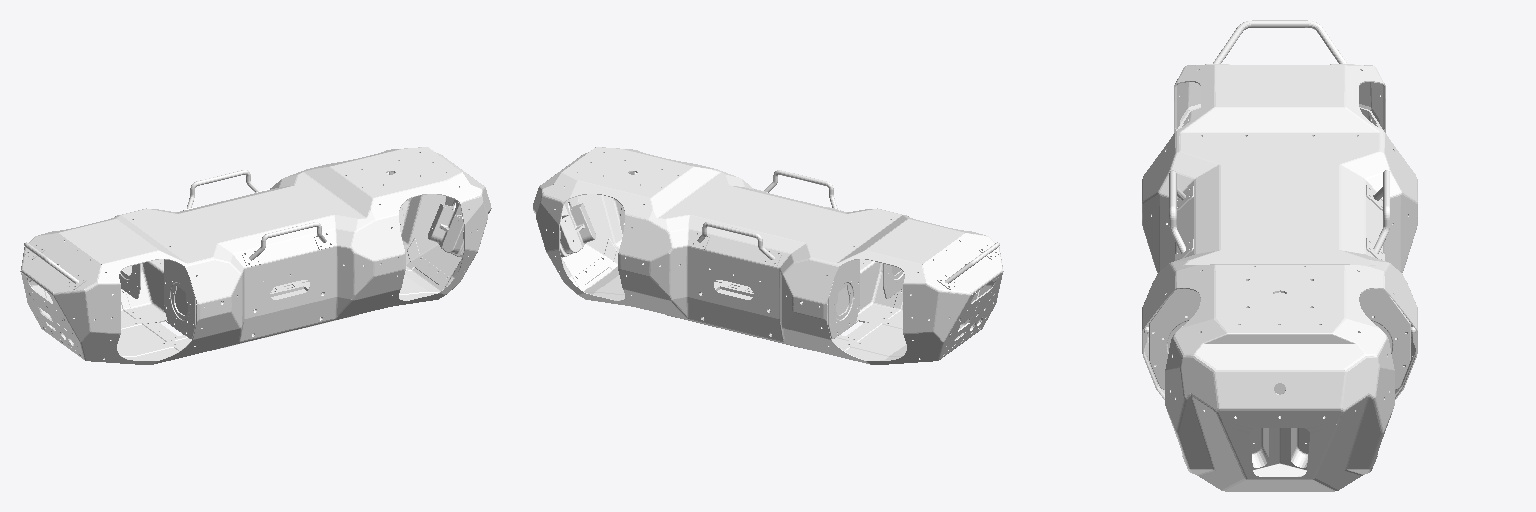
robot.urdf — PAI-urdf:
<?xml version="1.0" encoding="utf-8"?>
<!-- This URDF was automatically created by SolidWorks to URDF Exporter! Originally created by [author] ([email redacted]) 
     Commit Version: 1.6.0-4-g7f85cfe  Build Version: 1.6.7995.38578
     For more information, please see http://wiki.ros.org/sw_urdf_exporter -->
<robot
  name="PAI-urdf">
  <link
    name="base_link">
    <inertial>
      <origin
        xyz="0.069429 6.1599E-18 0.093307"
        rpy="0 0 0" />
      <mass
        value="1.5" />
      <inertia
        ixx="0.0028787"
        ixy="-6.2028E-19"
        ixz="0.0011496"
        iyy="0.0047606"
        iyz="5.6278E-19"
        izz="0.0043029" />
    </inertial>
    <visual>
      <origin
        xyz="0 0 0"
        rpy="0 0 0" />
      <geometry>
        <mesh
          filename="package://meshes/base_link.STL" />
      </geometry>
      <material
        name="">
        <color
          rgba="1 1 1 1" />
      </material>
    </visual>
    <collision>
      <origin
        xyz="0 0 0"
        rpy="0 0 0" />
      <geometry>
        <mesh
          filename="package://meshes/base_link.STL" />
      </geometry>
    </collision>
  </link>
  <link
    name="left-hip-abad">
    <inertial>
      <origin
        xyz="0.041409 0 0.055119"
        rpy="0 0 0" />
      <mass
        value="0.35" />
      <inertia
        ixx="3.6841E-05"
        ixy="-2.584E-22"
        ixz="-6.2162E-07"
        iyy="3.8839E-05"
        iyz="-1.9482E-21"
        izz="3.6277E-05" />
    </inertial>
    <visual>
      <origin
        xyz="0 0 0"
        rpy="0 0 0" />
      <geometry>
        <mesh
          filename="package://meshes/left-hip-abad.STL" />
      </geometry>
      <material
        name="">
        <color
          rgba="1 1 1 1" />
      </material>
    </visual>
    <collision>
      <origin
        xyz="0 0 0"
        rpy="0 0 0" />
      <geometry>
        <mesh
          filename="package://meshes/left-hip-abad.STL" />
      </geometry>
    </collision>
  </link>
  <joint
    name="abad-L"
    type="continuous">
    <origin
      xyz="0 0.075 0"
      rpy="0 0 0" />
    <parent
      link="base_link" />
    <child
      link="left-hip-abad" />
    <axis
      xyz="-1 0 0" />
  </joint>
  <link
    name="left-hip-yaw">
    <inertial>
      <origin
        xyz="-0.00049584 2.8866E-15 0.0032955"
        rpy="0 0 0" />
      <mass
        value="0.65" />
      <inertia
        ixx="6.7757E-05"
        ixy="7.9552E-21"
        ixz="-6.395E-07"
        iyy="6.8581E-05"
        iyz="9.1346E-21"
        izz="6.7914E-05" />
    </inertial>
    <visual>
      <origin
        xyz="0 0 0"
        rpy="0 0 0" />
      <geometry>
        <mesh
          filename="package://meshes/left-hip-yaw.STL" />
      </geometry>
      <material
        name="">
        <color
          rgba="1 1 1 1" />
      </material>
    </visual>
    <collision>
      <origin
        xyz="0 0 0"
        rpy="0 0 0" />
      <geometry>
        <mesh
          filename="package://meshes/left-hip-yaw.STL" />
      </geometry>
    </collision>
  </link>
  <joint
    name="Yaw-L"
    type="continuous">
    <origin
      xyz="0.049 0 -0.0005"
      rpy="0 0 0" />
    <parent
      link="left-hip-abad" />
    <child
      link="left-hip-yaw" />
    <axis
      xyz="0 0 1" />
  </joint>
  <link
    name="left-hip-pitch">
    <inertial>
      <origin
        xyz="6.5226E-16 2.3315E-15 -0.05727"
        rpy="0 0 0" />
      <mass
        value="0.2" />
      <inertia
        ixx="0.00012318"
        ixy="3.9623E-20"
        ixz="-2.6324E-20"
        iyy="0.00012926"
        iyz="7.2271E-23"
        izz="6.3186E-06" />
    </inertial>
    <visual>
      <origin
        xyz="0 0 0"
        rpy="0 0 0" />
      <geometry>
        <mesh
          filename="package://meshes/left-hip-pitch.STL" />
      </geometry>
      <material
        name="">
        <color
          rgba="1 1 1 1" />
      </material>
    </visual>
    <collision>
      <origin
        xyz="0 0 0"
        rpy="0 0 0" />
      <geometry>
        <mesh
          filename="package://meshes/left-hip-pitch.STL" />
      </geometry>
    </collision>
  </link>
  <joint
    name="Pitch-L"
    type="continuous">
    <origin
      xyz="0 0 0"
      rpy="0 0 0" />
    <parent
      link="left-hip-yaw" />
    <child
      link="left-hip-pitch" />
    <axis
      xyz="0 1 0" />
  </joint>
  <link
    name="left-knee">
    <inertial>
      <origin
        xyz="-0.0045962 0.012568 -0.063722"
        rpy="0 0 0" />
      <mass
        value="0.36" />
      <inertia
        ixx="0.00011945"
        ixy="6.4077E-08"
        ixz="3.3225E-07"
        iyy="0.00012253"
        iyz="1.2844E-07"
        izz="2.0036E-05" />
    </inertial>
    <visual>
      <origin
        xyz="0 0 0"
        rpy="0 0 0" />
      <geometry>
        <mesh
          filename="package://meshes/left-knee.STL" />
      </geometry>
      <material
        name="">
        <color
          rgba="1 1 1 1" />
      </material>
    </visual>
    <collision>
      <origin
        xyz="0 0 0"
        rpy="0 0 0" />
      <geometry>
        <mesh
          filename="package://meshes/left-knee.STL" />
      </geometry>
    </collision>
  </link>
  <joint
    name="Knee-L"
    type="continuous">
    <origin
      xyz="0 0 -0.15"
      rpy="0 0 0" />
    <parent
      link="left-hip-pitch" />
    <child
      link="left-knee" />
    <axis
      xyz="0 1 0" />
  </joint>
  <link
    name="left-ankle">
    <inertial>
      <origin
        xyz="0.010818 -1.9984E-08 -0.014672"
        rpy="0 0 0" />
      <mass
        value="0.09" />
      <inertia
        ixx="2.76E-06"
        ixy="3.1498E-11"
        ixz="1.0465E-06"
        iyy="2.7107E-05"
        iyz="3.7297E-13"
        izz="2.6942E-05" />
    </inertial>
    <visual>
      <origin
        xyz="0 0 0"
        rpy="0 0 0" />
      <geometry>
        <mesh
          filename="package://meshes/left-ankle.STL" />
      </geometry>
      <material
        name="">
        <color
          rgba="1 1 1 1" />
      </material>
    </visual>
    <collision>
      <origin
        xyz="0 0 0"
        rpy="0 0 0" />
      <geometry>
        <mesh
          filename="package://meshes/left-ankle.STL" />
      </geometry>
    </collision>
  </link>
  <joint
    name="Ankle-L"
    type="continuous">
    <origin
      xyz="0 0 -0.16"
      rpy="0 0 0" />
    <parent
      link="left-knee" />
    <child
      link="left-ankle" />
    <axis
      xyz="0 -1 0" />
  </joint>
  <link
    name="right-hip-abad">
    <inertial>
      <origin
        xyz="0.041409 -2.7756E-17 0.055119"
        rpy="0 0 0" />
      <mass
        value="0.35" />
      <inertia
        ixx="3.6841E-05"
        ixy="2.4386E-22"
        ixz="-6.2162E-07"
        iyy="3.8839E-05"
        iyz="-2.348E-21"
        izz="3.6277E-05" />
    </inertial>
    <visual>
      <origin
        xyz="0 0 0"
        rpy="0 0 0" />
      <geometry>
        <mesh
          filename="package://meshes/right-hip-abad.STL" />
      </geometry>
      <material
        name="">
        <color
          rgba="1 1 1 1" />
      </material>
    </visual>
    <collision>
      <origin
        xyz="0 0 0"
        rpy="0 0 0" />
      <geometry>
        <mesh
          filename="package://meshes/right-hip-abad.STL" />
      </geometry>
    </collision>
  </link>
  <joint
    name="abad-R"
    type="continuous">
    <origin
      xyz="0 -0.075 0"
      rpy="0 0 0" />
    <parent
      link="base_link" />
    <child
      link="right-hip-abad" />
    <axis
      xyz="-1 0 0" />
  </joint>
  <link
    name="right-hip-yaw">
    <inertial>
      <origin
        xyz="-0.00049584 4.3021E-16 0.0032955"
        rpy="0 0 0" />
      <mass
        value="0.65" />
      <inertia
        ixx="6.7757E-05"
        ixy="-1.4631E-21"
        ixz="-6.395E-07"
        iyy="6.8581E-05"
        iyz="1.1283E-20"
        izz="6.7914E-05" />
    </inertial>
    <visual>
      <origin
        xyz="0 0 0"
        rpy="0 0 0" />
      <geometry>
        <mesh
          filename="package://meshes/right-hip-yaw.STL" />
      </geometry>
      <material
        name="">
        <color
          rgba="1 1 1 1" />
      </material>
    </visual>
    <collision>
      <origin
        xyz="0 0 0"
        rpy="0 0 0" />
      <geometry>
        <mesh
          filename="package://meshes/right-hip-yaw.STL" />
      </geometry>
    </collision>
  </link>
  <joint
    name="Yaw-R"
    type="continuous">
    <origin
      xyz="0.049 0 -0.0005"
      rpy="0 0 0" />
    <parent
      link="right-hip-abad" />
    <child
      link="right-hip-yaw" />
    <axis
      xyz="0 0 1" />
  </joint>
  <link
    name="right-hip-pitch">
    <inertial>
      <origin
        xyz="-3.5388E-16 6.5226E-16 -0.05727"
        rpy="0 0 0" />
      <mass
        value="0.2" />
      <inertia
        ixx="0.00012318"
        ixy="3.9681E-20"
        ixz="-3.2905E-21"
        iyy="0.00012926"
        iyz="2.887E-20"
        izz="6.3186E-06" />
    </inertial>
    <visual>
      <origin
        xyz="0 0 0"
        rpy="0 0 0" />
      <geometry>
        <mesh
          filename="package://meshes/right-hip-pitch.STL" />
      </geometry>
      <material
        name="">
        <color
          rgba="1 1 1 1" />
      </material>
    </visual>
    <collision>
      <origin
        xyz="0 0 0"
        rpy="0 0 0" />
      <geometry>
        <mesh
          filename="package://meshes/right-hip-pitch.STL" />
      </geometry>
    </collision>
  </link>
  <joint
    name="Pitch-R"
    type="continuous">
    <origin
      xyz="0 0 0"
      rpy="0 0 0" />
    <parent
      link="right-hip-yaw" />
    <child
      link="right-hip-pitch" />
    <axis
      xyz="0 -1 0" />
  </joint>
  <link
    name="right-knee">
    <inertial>
      <origin
        xyz="-0.0045962 -0.012568 -0.063722"
        rpy="0 0 0" />
      <mass
        value="0.36" />
      <inertia
        ixx="0.00011945"
        ixy="-6.4077E-08"
        ixz="3.3225E-07"
        iyy="0.00012253"
        iyz="-1.2844E-07"
        izz="2.0036E-05" />
    </inertial>
    <visual>
      <origin
        xyz="0 0 0"
        rpy="0 0 0" />
      <geometry>
        <mesh
          filename="package://meshes/right-knee.STL" />
      </geometry>
      <material
        name="">
        <color
          rgba="1 1 1 1" />
      </material>
    </visual>
    <collision>
      <origin
        xyz="0 0 0"
        rpy="0 0 0" />
      <geometry>
        <mesh
          filename="package://meshes/right-knee.STL" />
      </geometry>
    </collision>
  </link>
  <joint
    name="Knee-R"
    type="continuous">
    <origin
      xyz="0 0 -0.15"
      rpy="0 0 0" />
    <parent
      link="right-hip-pitch" />
    <child
      link="right-knee" />
    <axis
      xyz="0 1 0" />
  </joint>
  <link
    name="right-ankle">
    <inertial>
      <origin
        xyz="0.010818 -1.9984E-08 -0.014672"
        rpy="0 0 0" />
      <mass
        value="0.09" />
      <inertia
        ixx="2.76E-06"
        ixy="3.1498E-11"
        ixz="1.0465E-06"
        iyy="2.7107E-05"
        iyz="3.7297E-13"
        izz="2.6942E-05" />
    </inertial>
    <visual>
      <origin
        xyz="0 0 0"
        rpy="0 0 0" />
      <geometry>
        <mesh
          filename="package://meshes/right-ankle.STL" />
      </geometry>
      <material
        name="">
        <color
          rgba="1 1 1 1" />
      </material>
    </visual>
    <collision>
      <origin
        xyz="0 0 0"
        rpy="0 0 0" />
      <geometry>
        <mesh
          filename="package://meshes/right-ankle.STL" />
      </geometry>
    </collision>
  </link>
  <joint
    name="Ankle-R"
    type="continuous">
    <origin
      xyz="0 0 -0.16"
      rpy="0 0 0" />
    <parent
      link="right-knee" />
    <child
      link="right-ankle" />
    <axis
      xyz="0 1 0" />
  </joint>
</robot>

--- What the picture shows (computed from the rendered views, not written in the file) ---
3 views of the same robot in one strip: view 1: azimuth 30°, elevation 25°; view 2: azimuth 150°, elevation 25°; view 3: azimuth 270°, elevation 25° (orthographic).
Robot: PAI-urdf — 11 links, 10 joints (10 continuous); root link base_link; default pose: every joint at zero.
Visible links, largest first — view 1: base_link; view 2: base_link; view 3: base_link.
Boxes of the visible links, box(x1,y1,x2,y2) form: base_link: box(20, 147, 491, 364); base_link: box(533, 147, 1003, 364); base_link: box(1142, 20, 1417, 491).
Bounding box of the posed robot: 1.04 × 0.379 × 0.2828 m (x, y, z).
Meshes: 11 distinct files referenced, 1 mesh visuals loaded (1 binary STL); not drawn: 10 (reference not matched to a file when rendering).